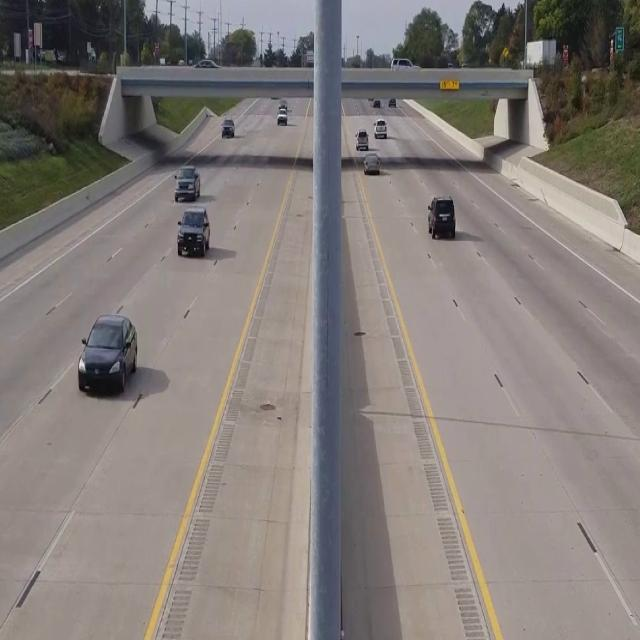car: (78, 313, 138, 394), (177, 208, 210, 256), (427, 196, 455, 238), (174, 164, 199, 202), (362, 151, 380, 174), (355, 129, 369, 150), (374, 117, 386, 138), (222, 119, 234, 138)
